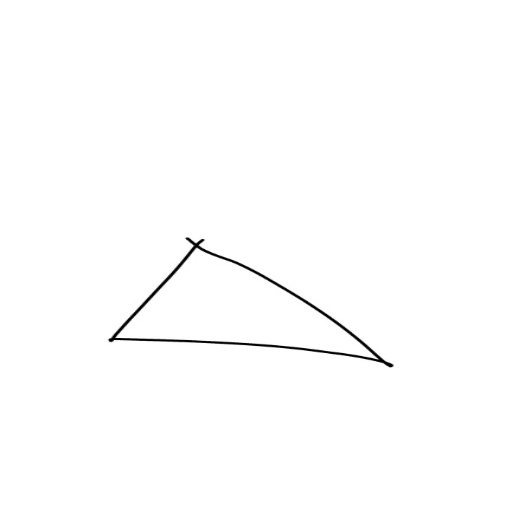triangle: (104, 224, 405, 376)
